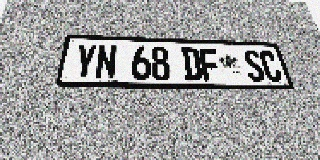6: (131, 46, 151, 80)
8: (151, 46, 171, 81)
C: (258, 50, 284, 82)
D: (181, 47, 203, 81)
F: (199, 48, 222, 81)
N: (94, 44, 117, 80)
S: (242, 50, 267, 82)
Y: (72, 44, 97, 80)
